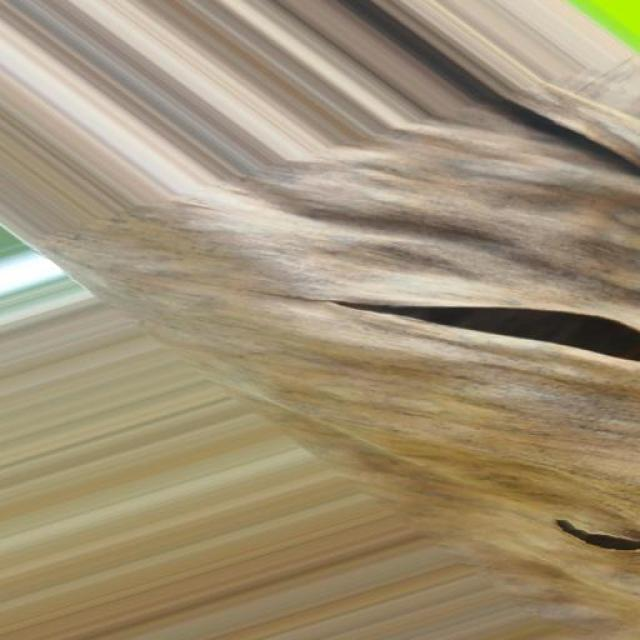Bract_mosaic_virus: (2, 0, 639, 640)
